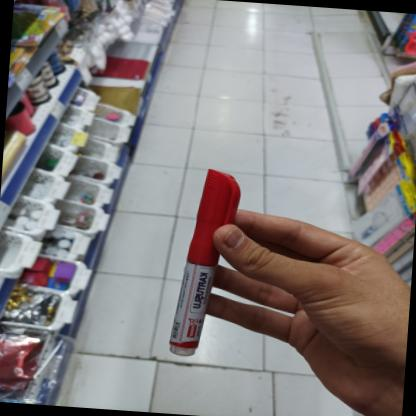pencil: (164, 171, 242, 363)
